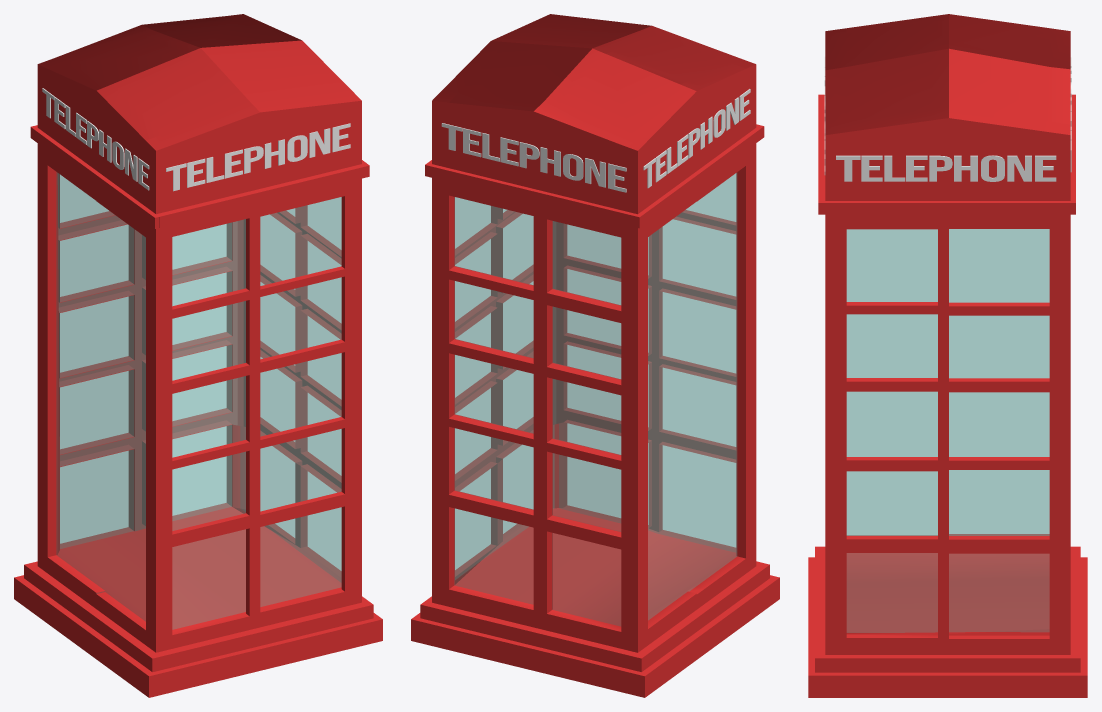
Rendered from low-poly_telephone_booth__game_asset.glb.
3 renders of one model, left to right at view 1: azimuth 30°, elevation 25°; view 2: azimuth 150°, elevation 25°; view 3: azimuth 270°, elevation 25°, orthographic. The views are drawn at different scales.
Visible parts, largest first — view 1: Object_3, Object_2; view 2: Object_3, Object_2; view 3: Object_3, Object_2.
Part boxes in pixels (<box>): Object_3: <box>14,14,382,697</box>; Object_2: <box>56,172,341,629</box>; Object_3: <box>411,14,779,697</box>; Object_2: <box>454,173,736,626</box>; Object_3: <box>808,14,1087,697</box>; Object_2: <box>846,229,1049,632</box>.
Bounding box in the file's own units: 2 × 4.67 × 2.
Materials: 2 (2 with a texture image).
